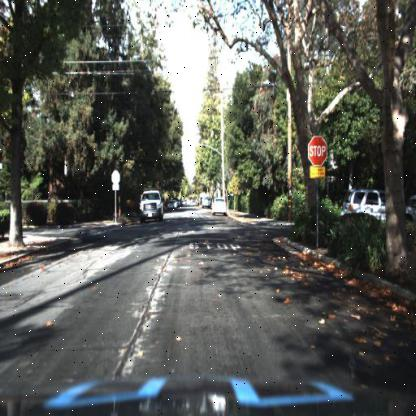car: (342, 184, 415, 234), (347, 186, 410, 228), (136, 186, 166, 227), (209, 194, 229, 221), (212, 198, 226, 216)
